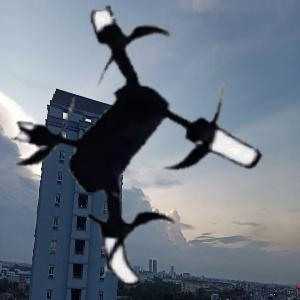drone: (1, 8, 286, 293)
